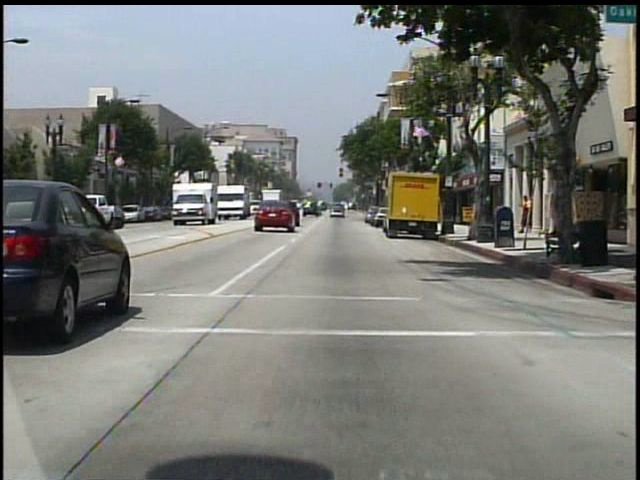person: (516, 194, 531, 235)
